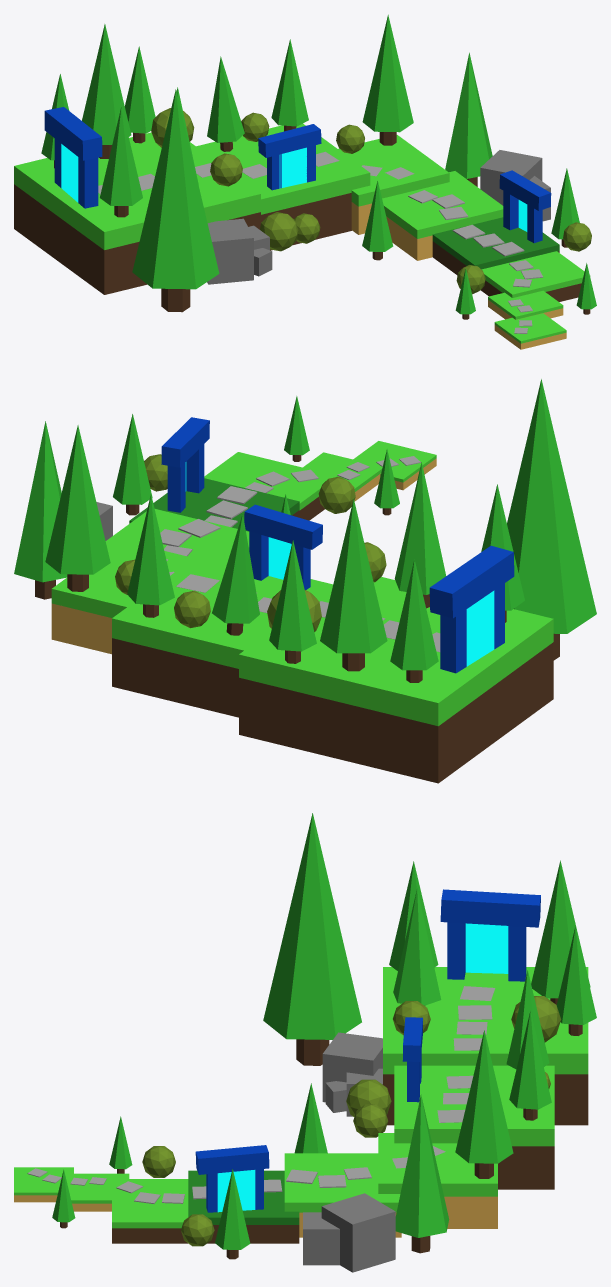
The model's file is env.glb.
3 renders of one model, top to bottom at view 1: azimuth 30°, elevation 25°; view 2: azimuth 150°, elevation 25°; view 3: azimuth 270°, elevation 25°, orthographic. The views are drawn at different scales.
Visible parts, largest first — view 1: terrain, trees.008, terrain.001, terrain.004, terrain.002, terrain.005, trees.007, trees.009, terrain.006, trees.003, rocks.002, trees (+29 smaller); view 2: terrain, terrain.001, trees.008, trees.003, trees.007, terrain.002, trees.009, gates.008, trees.004, terrain.006, trees.001, trees.002 (+24 smaller); view 3: trees.008, terrain, terrain.001, terrain.002, trees.009, terrain.004, trees.007, terrain.006, rocks, terrain.005, trees.003, gates.008 (+26 smaller).
Part boxes in pixels (x1,y1,x2,y2): terrain: [14, 132, 260, 294]; trees.008: [132, 89, 219, 312]; terrain.001: [196, 123, 370, 250]; terrain.004: [382, 171, 503, 260]; terrain.002: [338, 135, 449, 234]; terrain.005: [432, 217, 559, 275]; trees.007: [362, 14, 413, 145]; trees.009: [445, 52, 492, 186]; terrain.006: [481, 251, 590, 301]; trees.003: [82, 24, 131, 158]; rocks.002: [207, 218, 253, 284]; trees: [100, 106, 142, 217]; terrain: [239, 577, 553, 783]; terrain.001: [112, 552, 333, 717]; trees.008: [507, 379, 596, 660]; trees.003: [320, 499, 387, 671]; trees.007: [45, 425, 110, 591]; terrain.002: [51, 540, 193, 654]; trees.009: [14, 421, 67, 599]; gates.008: [429, 545, 514, 618]; trees.004: [394, 462, 445, 608]; terrain.006: [204, 452, 337, 520]; trees.001: [390, 559, 438, 682]; trees.002: [269, 540, 316, 663]; trees.008: [263, 813, 361, 1065]; terrain: [383, 967, 588, 1125]; terrain.001: [394, 1065, 554, 1189]; terrain.002: [378, 1133, 497, 1228]; trees.009: [395, 1094, 449, 1253]; terrain.004: [284, 1153, 401, 1237]; trees.007: [455, 1030, 513, 1178]; terrain.006: [112, 1179, 188, 1243]; rocks: [321, 1193, 395, 1272]; terrain.005: [188, 1170, 299, 1243]; trees.003: [531, 860, 590, 1004]; gates.008: [440, 889, 540, 927].
Size of what is drawn, in the model's own units: 17.12 by 8.51 by 17.93.
